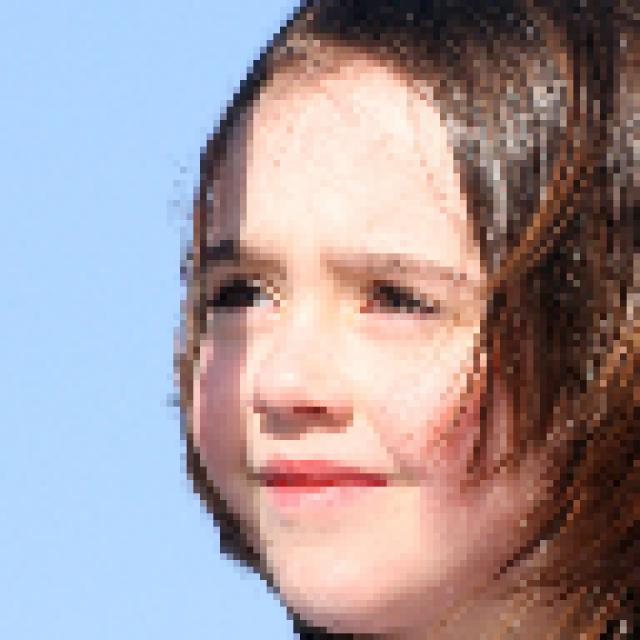happy: (154, 50, 581, 640)
